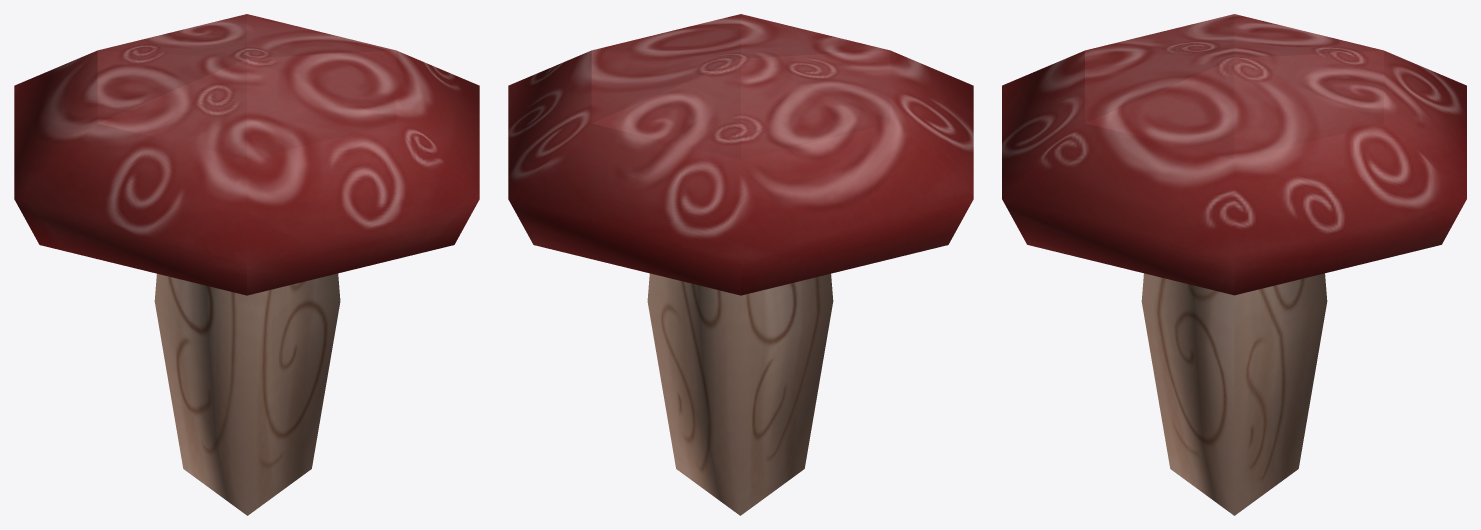
Rendered from champipi_animated.FBX.
3 views of the same model, side by side, from view 1: azimuth 30°, elevation 25°; view 2: azimuth 150°, elevation 25°; view 3: azimuth 270°, elevation 25° (orthographic).
Visible parts, largest first — view 1: Object007, Object008; view 2: Object007, Object008; view 3: Object007, Object008.
Boxes of the visible parts, x1=… form: Object007: x1=14, y1=14, x2=479, y2=295; Object008: x1=154, y1=273, x2=340, y2=515; Object007: x1=508, y1=14, x2=973, y2=295; Object008: x1=647, y1=273, x2=833, y2=515; Object007: x1=1002, y1=14, x2=1466, y2=295; Object008: x1=1141, y1=273, x2=1327, y2=515.
Bounding box in the file's own units: 31.65 × 27.69 × 27.41.
